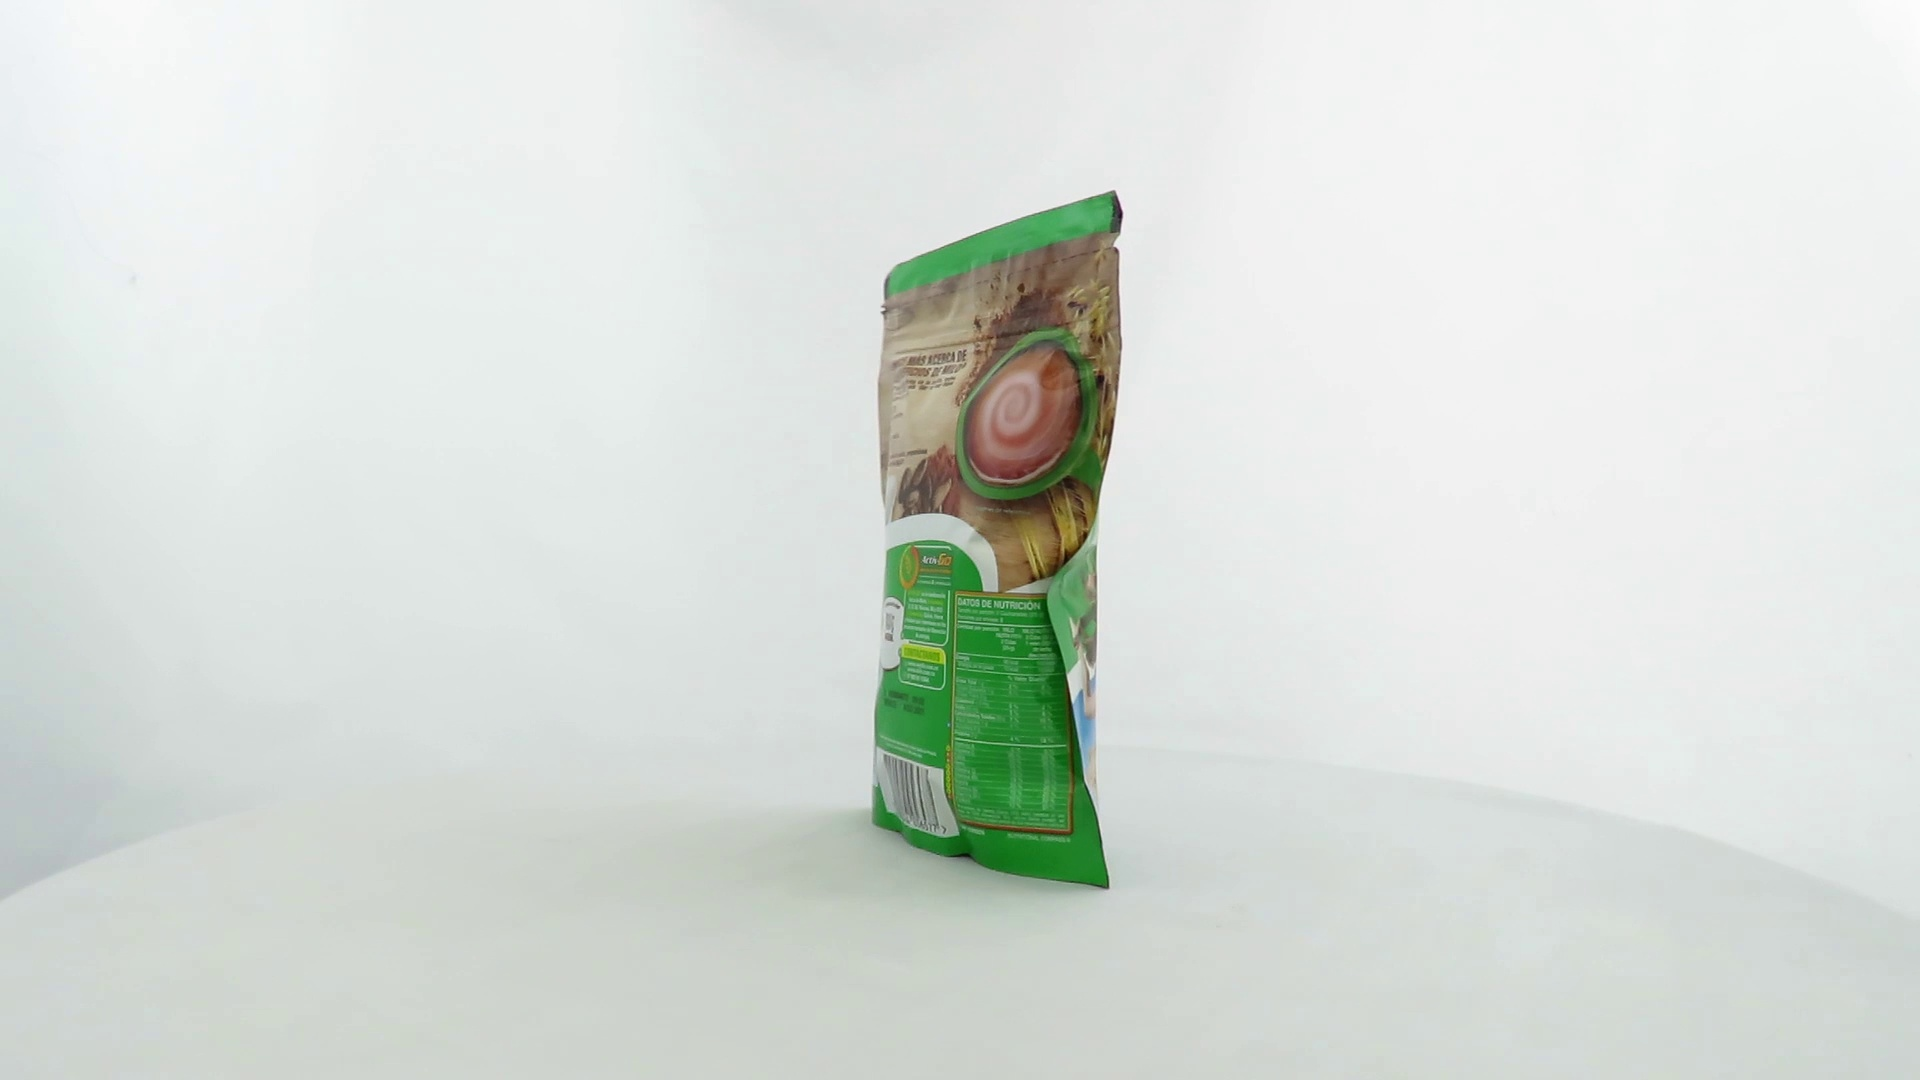COL0170205DYP20000: (866, 185, 1129, 895)
